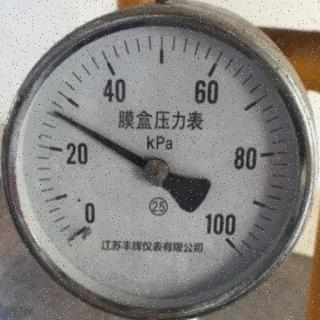gauge: (5, 12, 320, 319), (60, 199, 104, 253), (141, 156, 171, 188), (216, 224, 243, 256), (49, 105, 69, 123)
